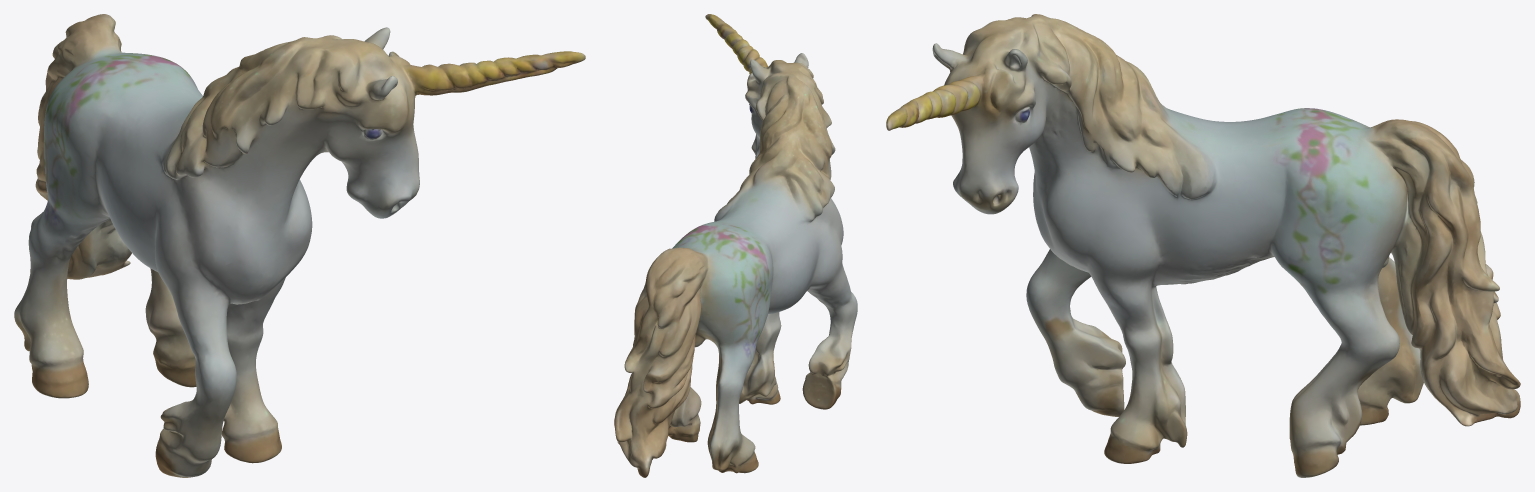
Rendered from Schleich_S_Bayala_Unicorn_70432.glb.
3 views of the same model, side by side, from view 1: azimuth 30°, elevation 25°; view 2: azimuth 150°, elevation 25°; view 3: azimuth 270°, elevation 25° (orthographic). The views are drawn at different scales.
Visible parts, largest first — view 1: geometry_0; view 2: geometry_0; view 3: geometry_0.
Boxes of the visible parts, x1,y1,x2,y2 form: geometry_0: (14,14,585,477); geometry_0: (614,14,857,477); geometry_0: (886,14,1520,477).
Bounding box in the file's own units: 0.5623 × 0.7739 × 1.
Materials: 1 (1 with a texture image).
